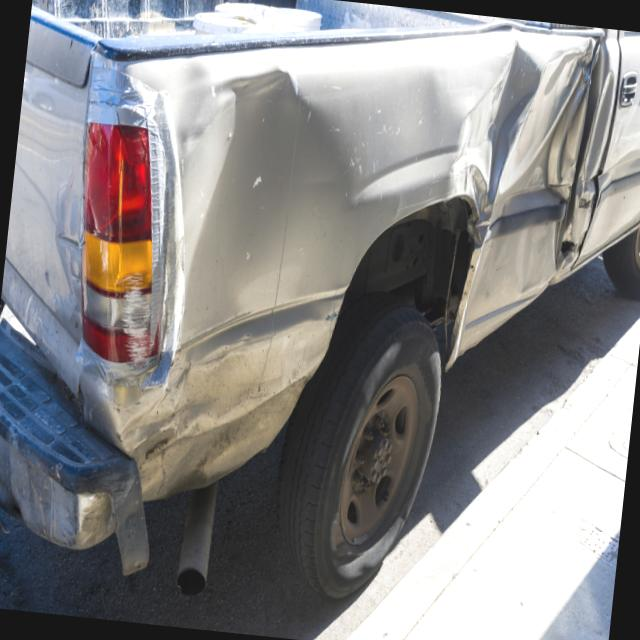Cabossage: (121, 48, 369, 508), (453, 16, 613, 375), (436, 36, 549, 225), (35, 159, 106, 331)
Rayure: (115, 251, 164, 366), (142, 424, 179, 461)
